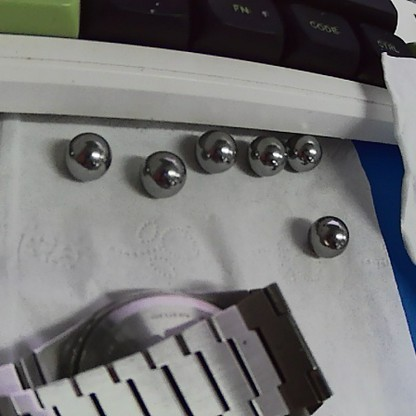ironball: (131, 145, 194, 202), (301, 203, 358, 262), (61, 128, 111, 181), (281, 125, 326, 174), (195, 130, 245, 174), (250, 134, 285, 175)
